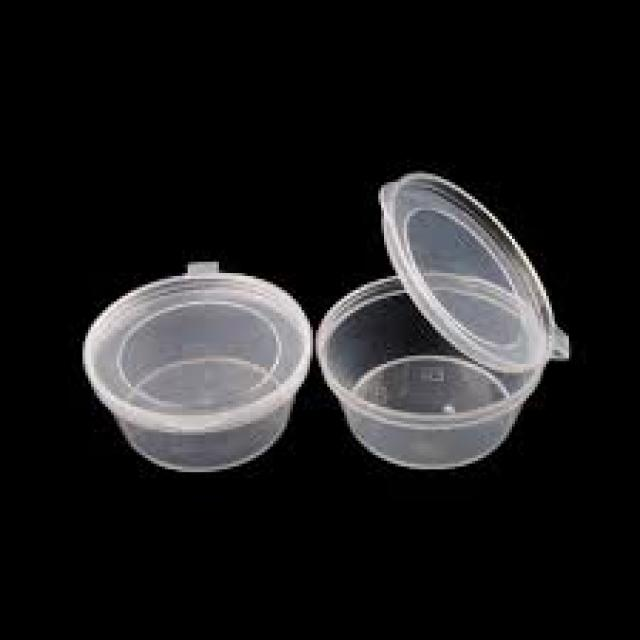disposable: (325, 254, 606, 485), (88, 252, 323, 479)
